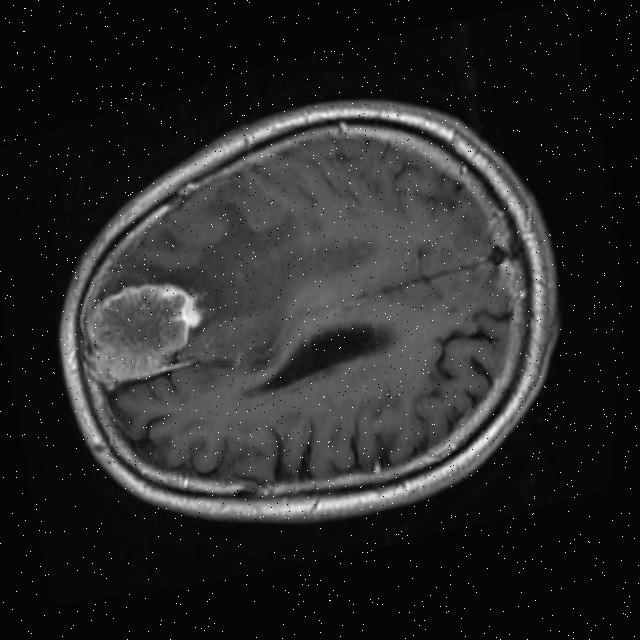Meningioma: (75, 265, 214, 389)
